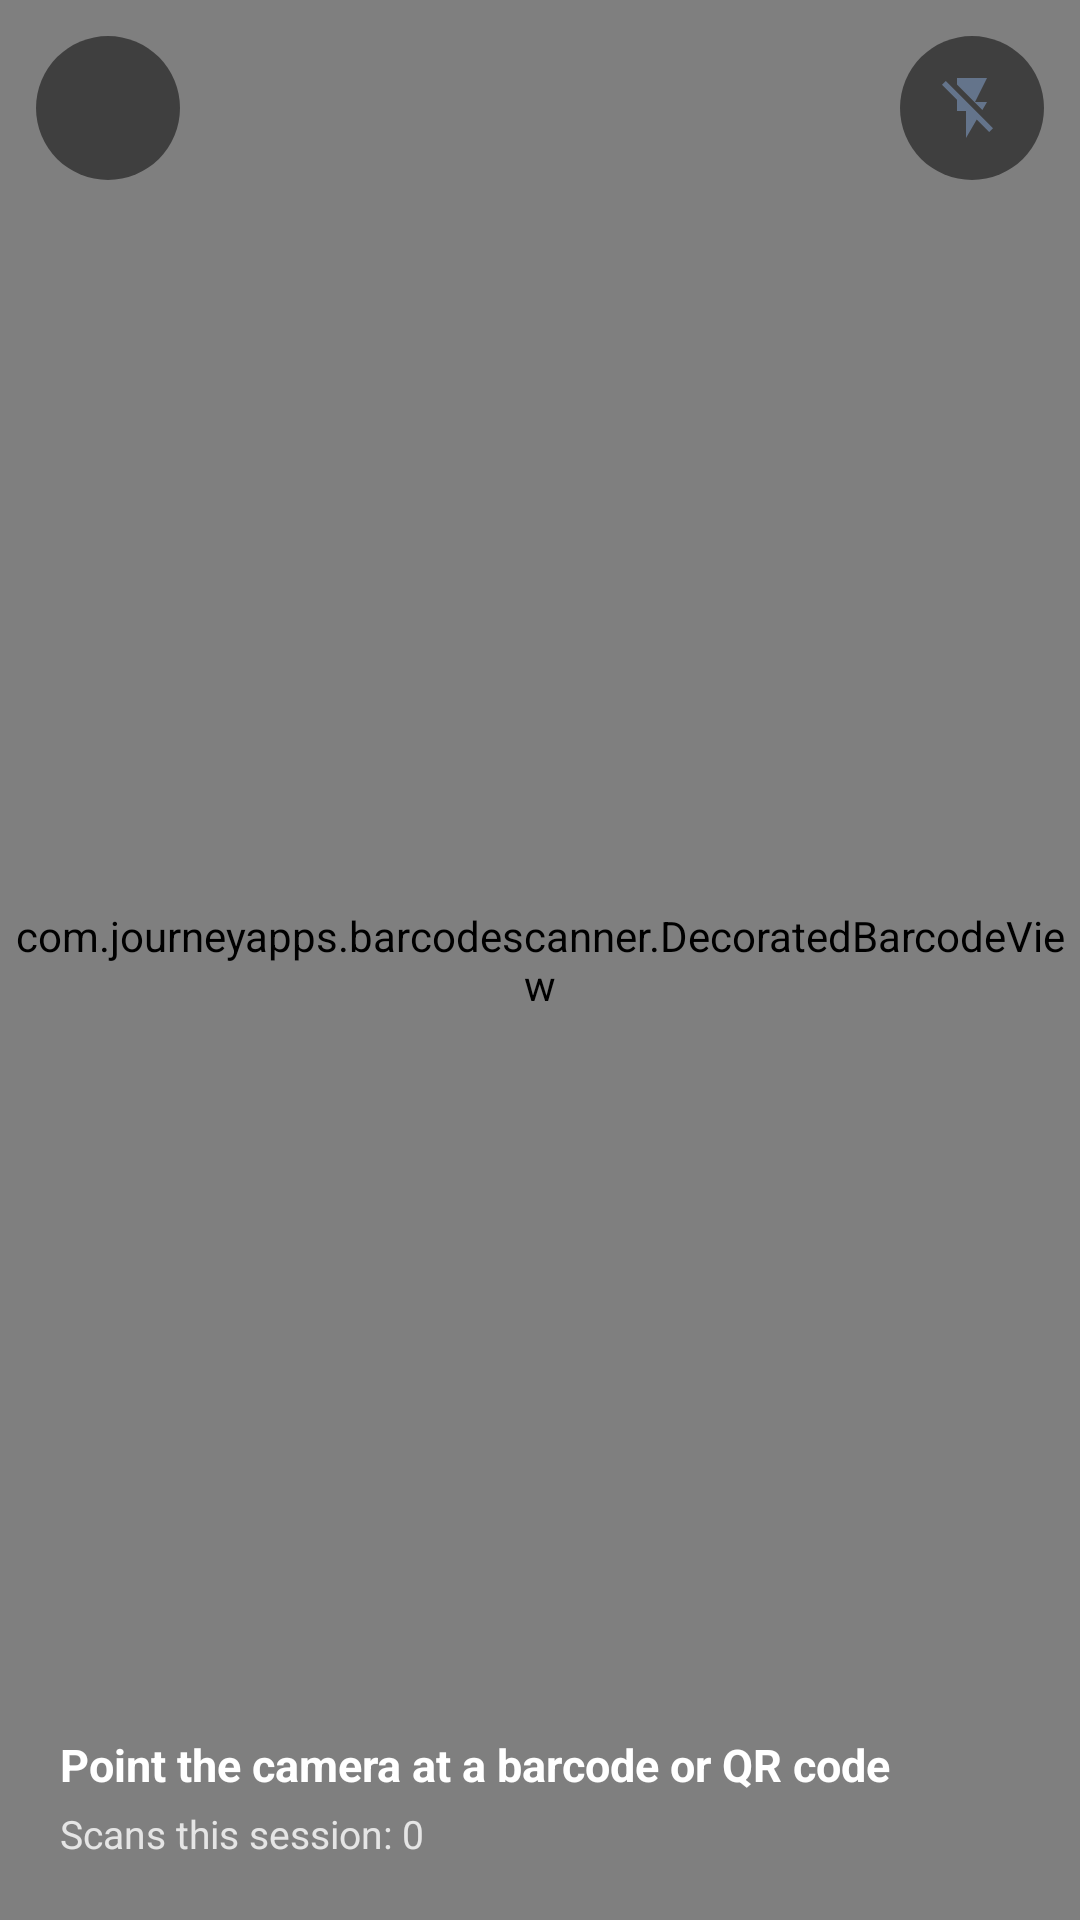

Named icons in this screenshot (1080x1920) and their bounding boxes, [x1,y1,x2,y2]:
Toggle flash: [900,36,1044,180]
